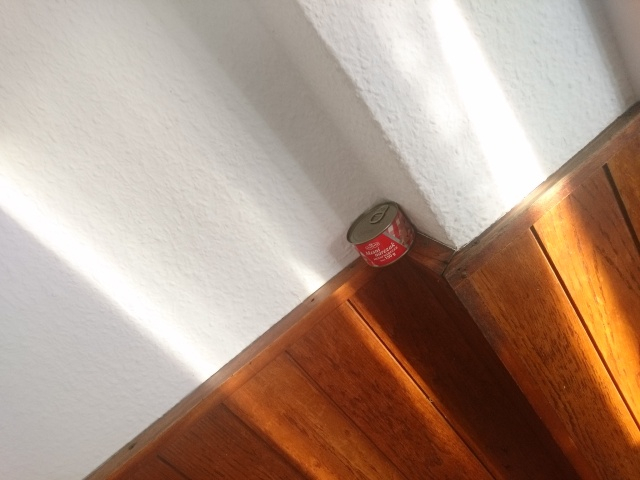Podravka Luncheon Meat 150g: (342, 198, 420, 271)
